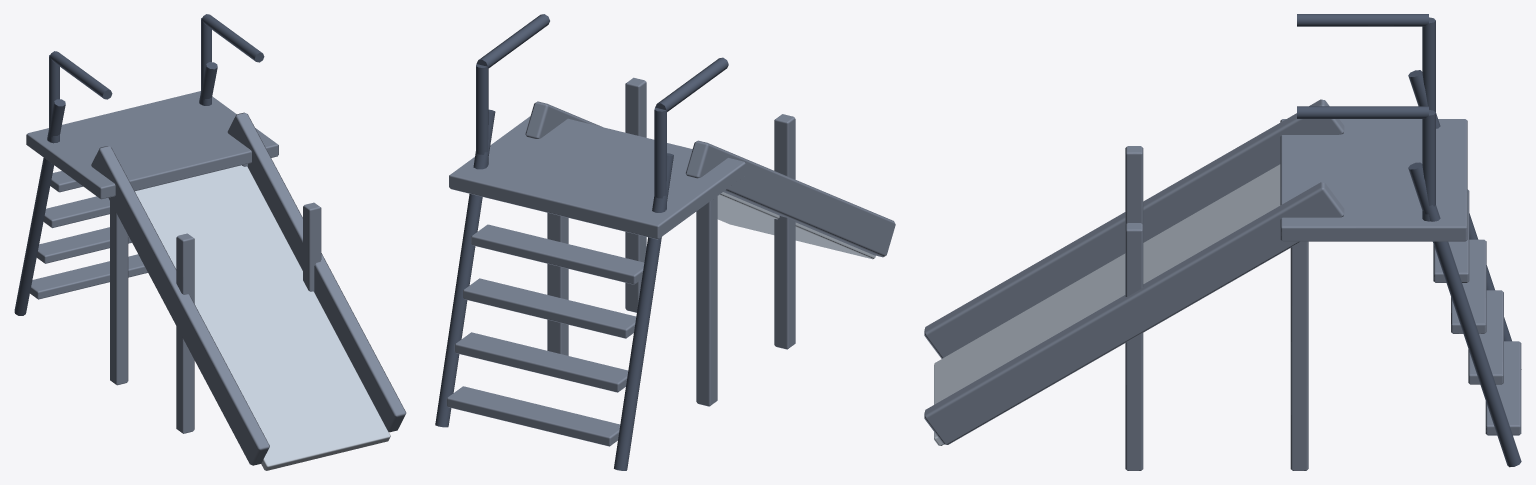
File: 户外滑梯-lite.glb
3 renders of one model, left to right at view 1: azimuth 30°, elevation 25°; view 2: azimuth 150°, elevation 25°; view 3: azimuth 270°, elevation 25°, orthographic. The views are drawn at different scales.
Visible parts, largest first — view 1: garden-slide; view 2: garden-slide; view 3: garden-slide.
Boxes of the visible parts, x1=… form: garden-slide: x1=14, y1=14, x2=406, y2=470; garden-slide: x1=435, y1=14, x2=895, y2=470; garden-slide: x1=924, y1=14, x2=1521, y2=470.
Size of the model in its own units: 0.95 by 1.5 by 2.2.
